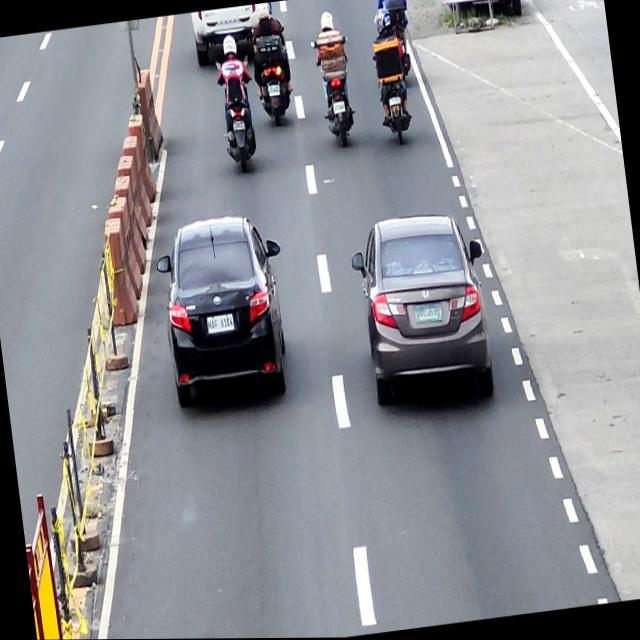Car: (348, 208, 500, 416), (150, 209, 298, 411), (189, 2, 275, 67)
License-Plate: (413, 302, 442, 325), (206, 313, 234, 334), (331, 101, 345, 115), (267, 84, 281, 97), (232, 120, 246, 131), (388, 97, 401, 107)
Motorcycle: (310, 32, 360, 149), (214, 55, 260, 172), (250, 24, 294, 127), (372, 42, 412, 146), (376, 0, 416, 76)
